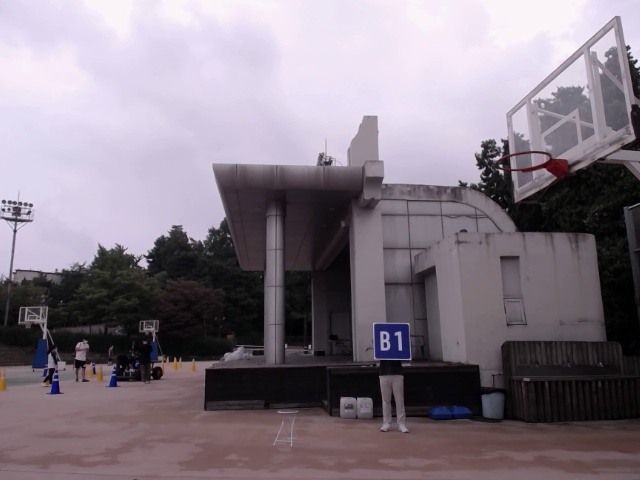delivery_b1: (373, 322, 411, 360)
